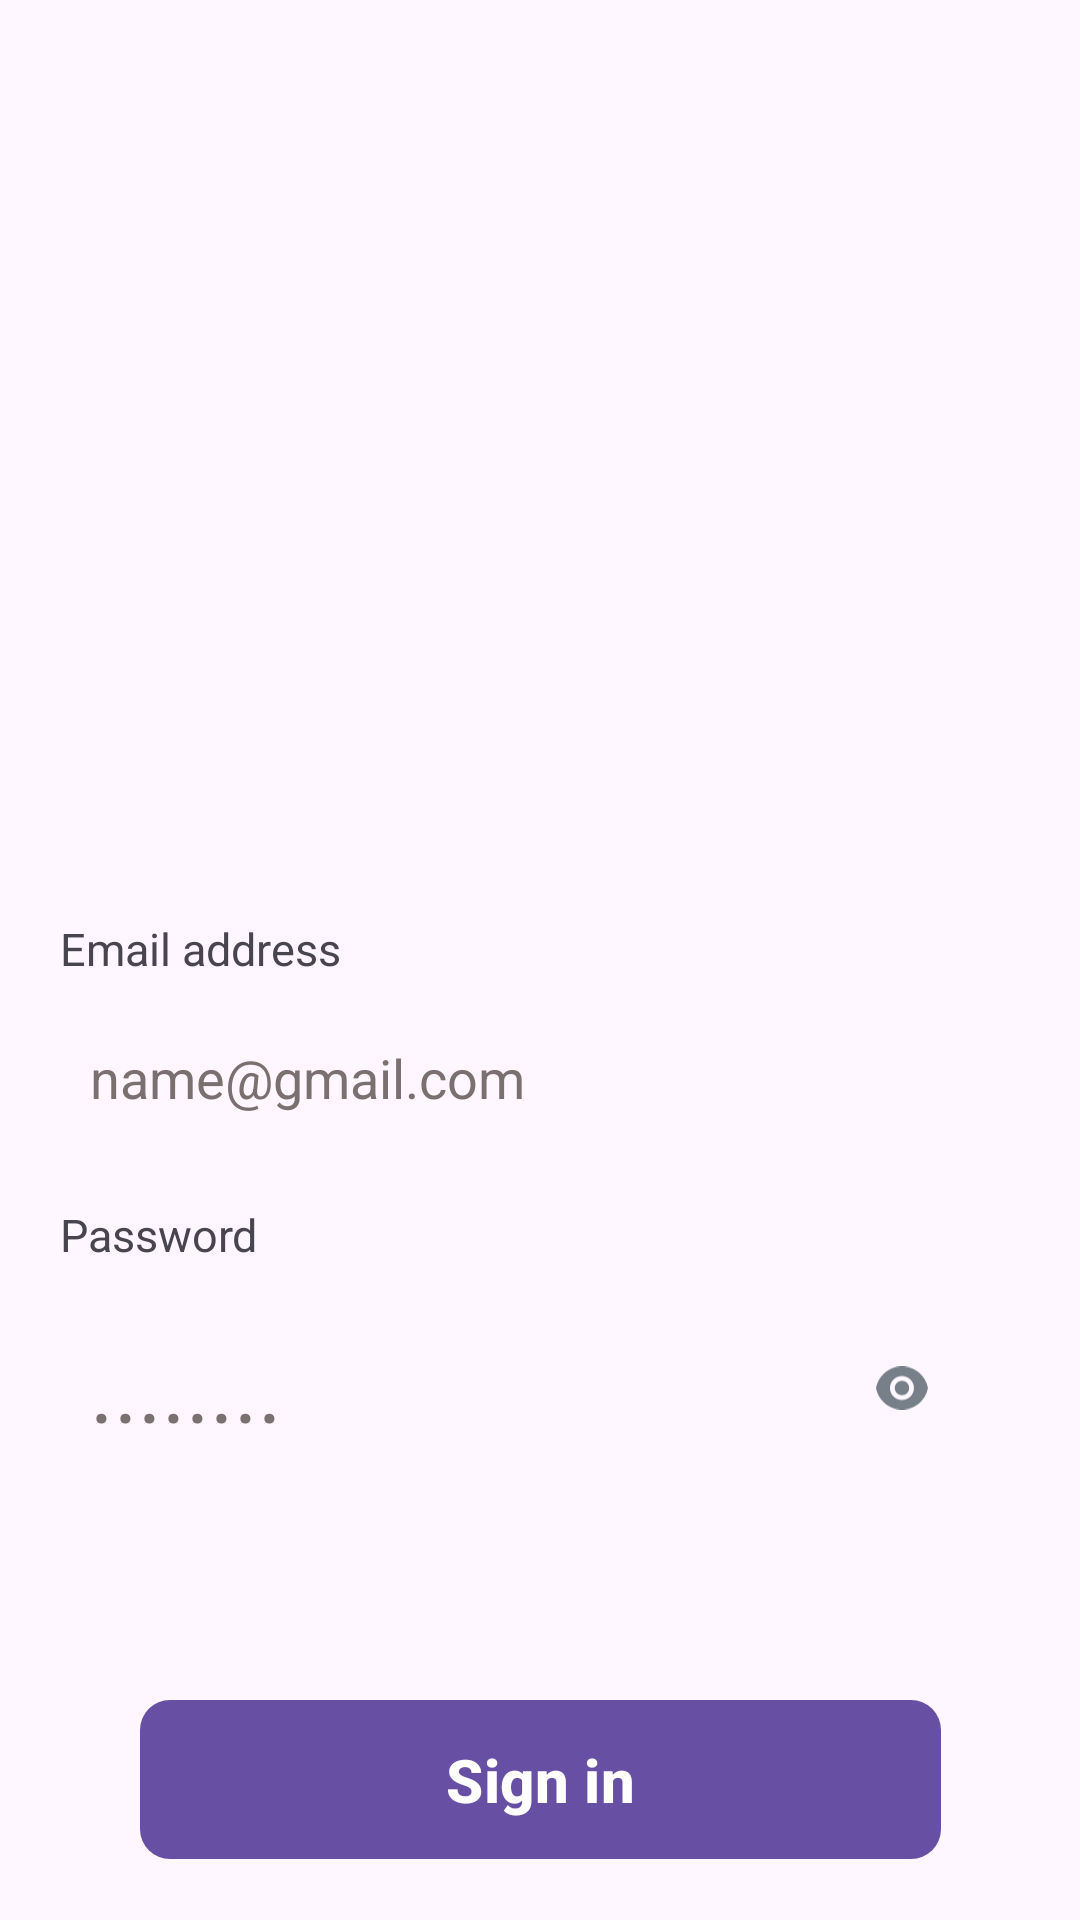

Screen size 1080px x 1920px. Icon name, then its center in pixels as (x=x, y=y):
password: (x=902, y=1388)
